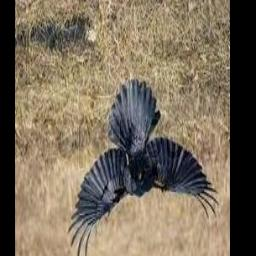Crow: (66, 81, 219, 256)
